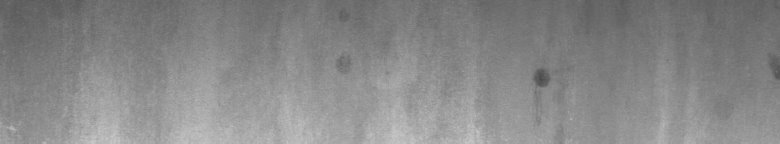fi: (528, 64, 555, 96)
